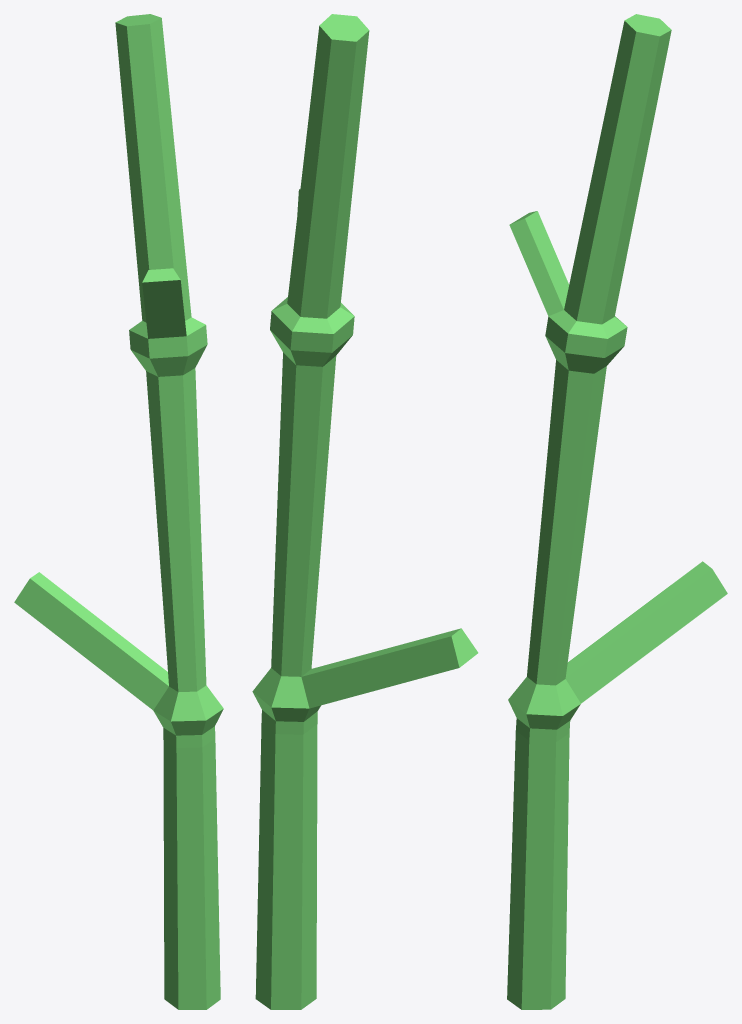
File: bamboo3.fbx
The picture shows the model from 3 angles, left to right: view 1: azimuth 30°, elevation 25°; view 2: azimuth 210°, elevation 25°; view 3: azimuth 270°, elevation 25°; orthographic projection. The views are drawn at different scales.
Parts seen in each view (by area): view 1: Cube; view 2: Cube; view 3: Cube.
Part boxes in pixels (left/top/right/bottom): Cube: left=14, top=14, right=223, bottom=1009; Cube: left=252, top=14, right=478, bottom=1009; Cube: left=507, top=14, right=727, bottom=1009.
Bounding box in the file's own units: 346 × 2526 × 517.
